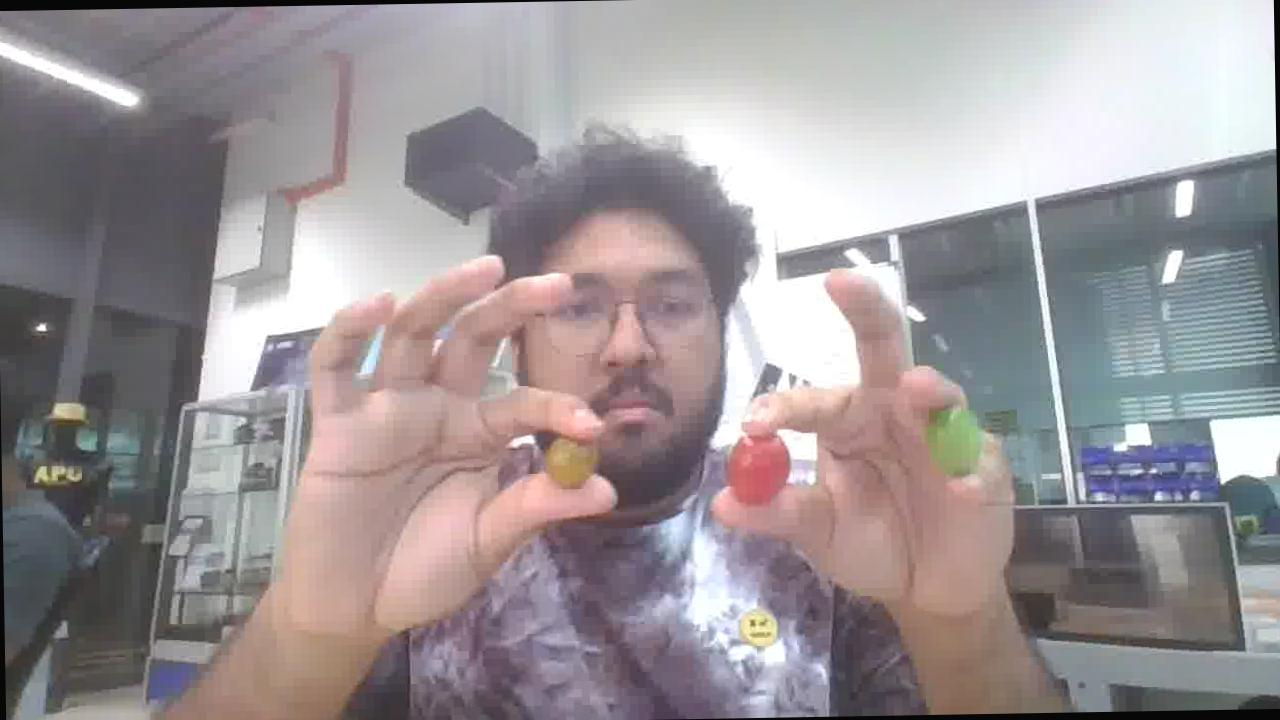green_cherry_tomato: (925, 407, 982, 477)
red_cherry_tomato: (727, 434, 790, 505)
yellow_cherry_tomato: (546, 437, 598, 488)
